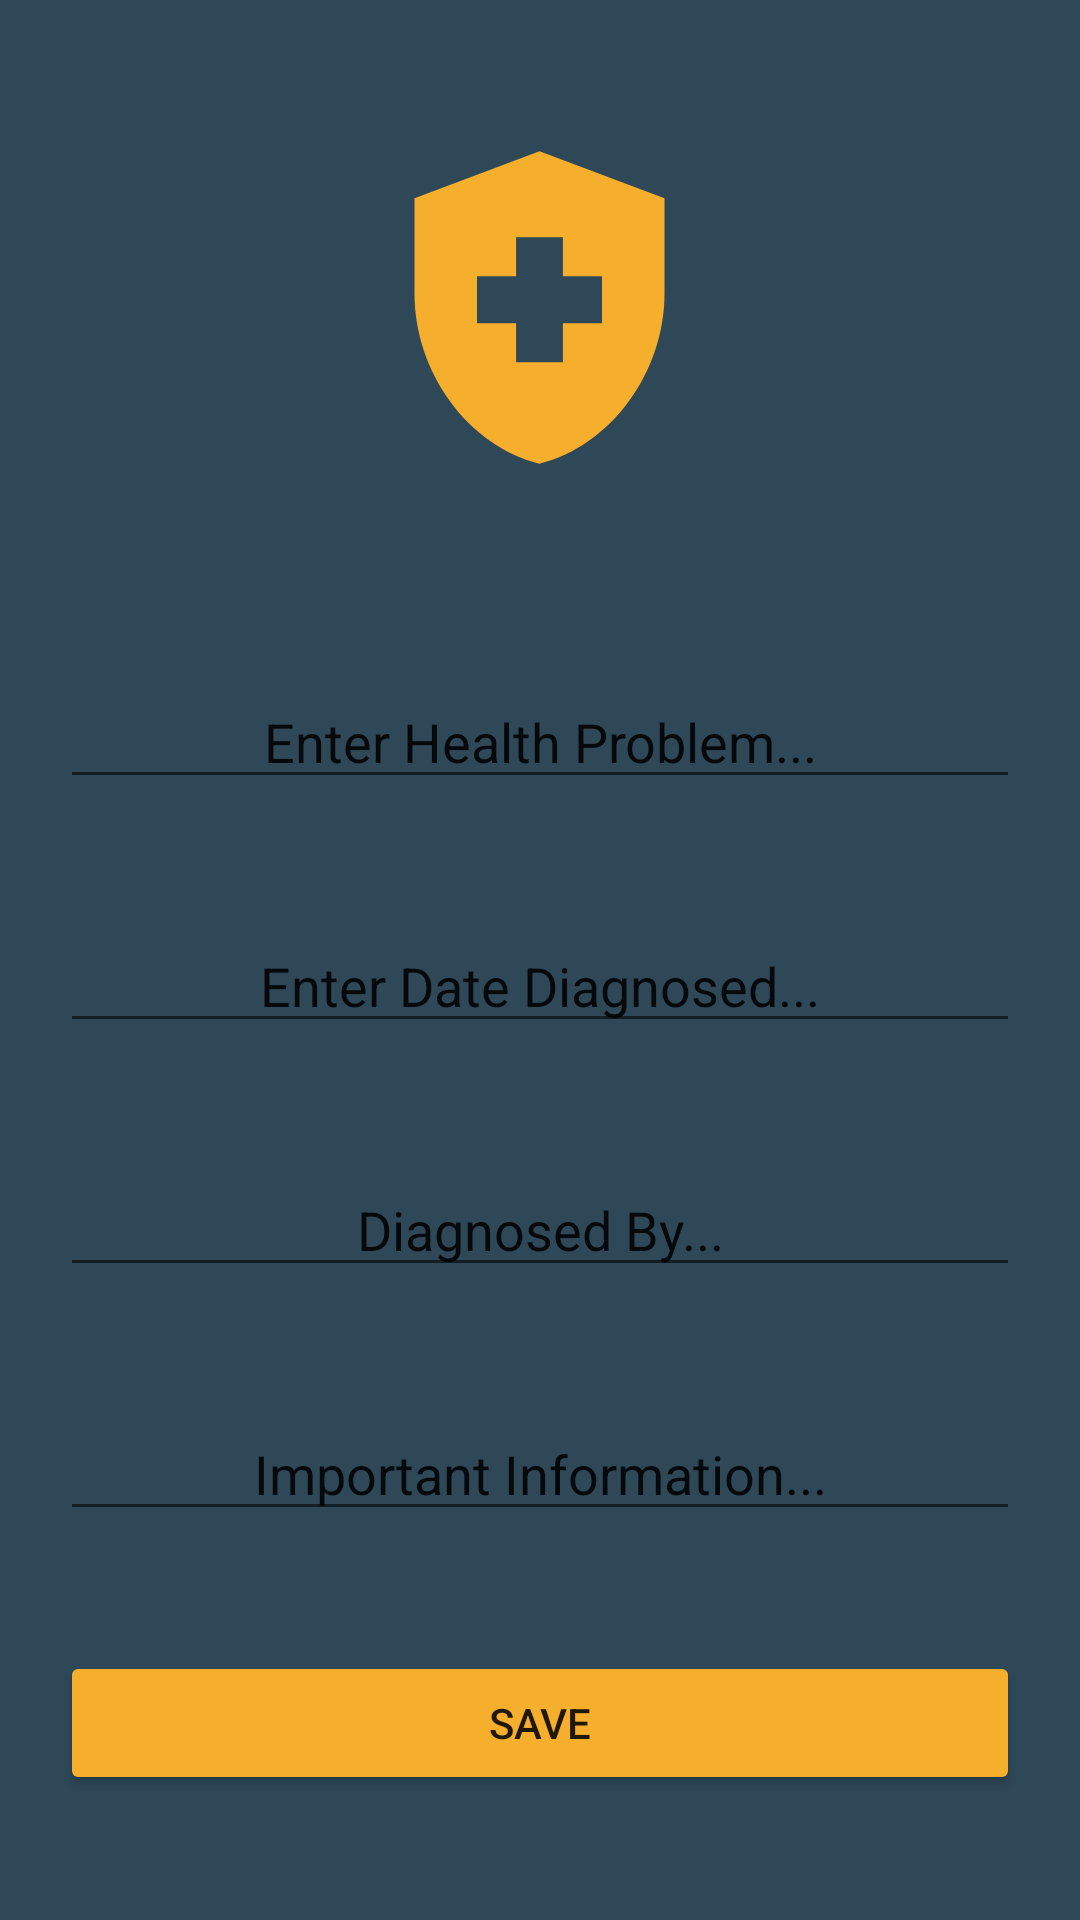

Icon bounding boxes for this 1080 x 1920 phone screenshot, format (x1,y1,x2,y2):
health: (414,151,665,464)
